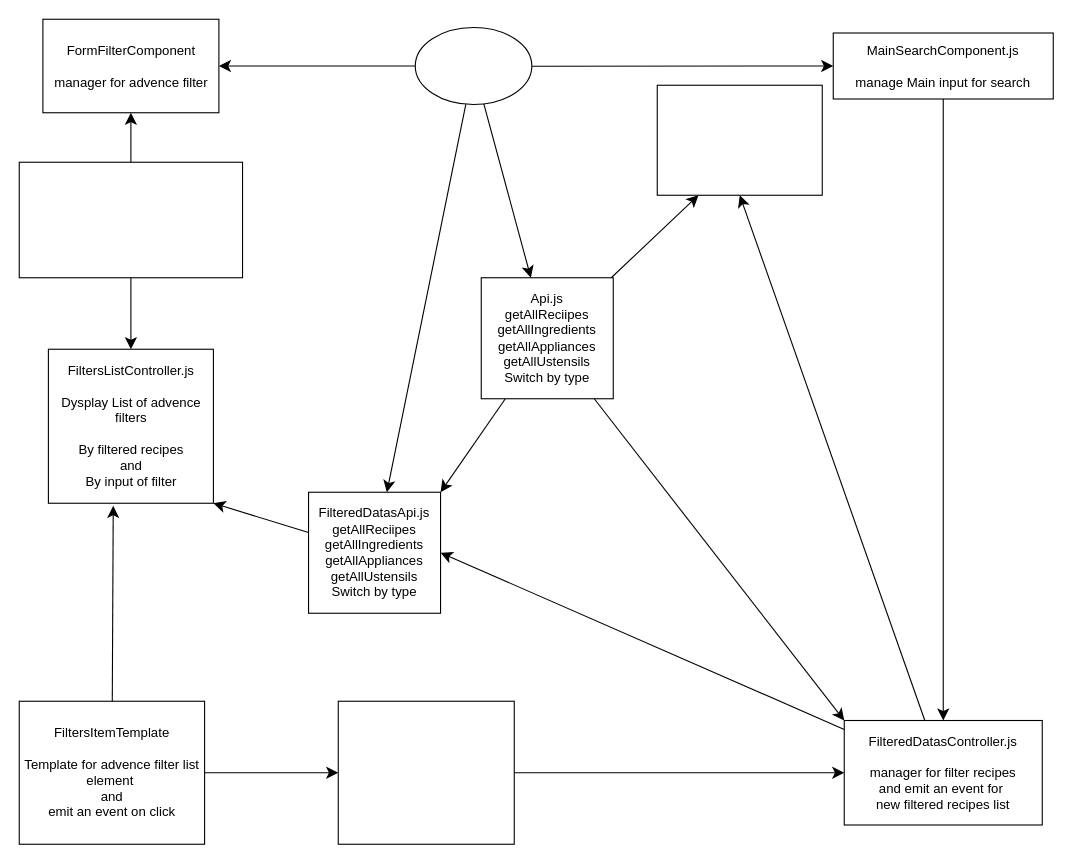
Image size: 1073x864. Some labels were removed from this diagram. Each missing label, with the centre of its shape:
FilterInputComponent Filter on advence filter list by input And manage input: the point at 130,219
RecipesController.js manager for display recipes: the point at 739,139
Start Open page: the point at 473,65
TagController.js Manager of tag emit an event for list of tag active: the point at 425,772
